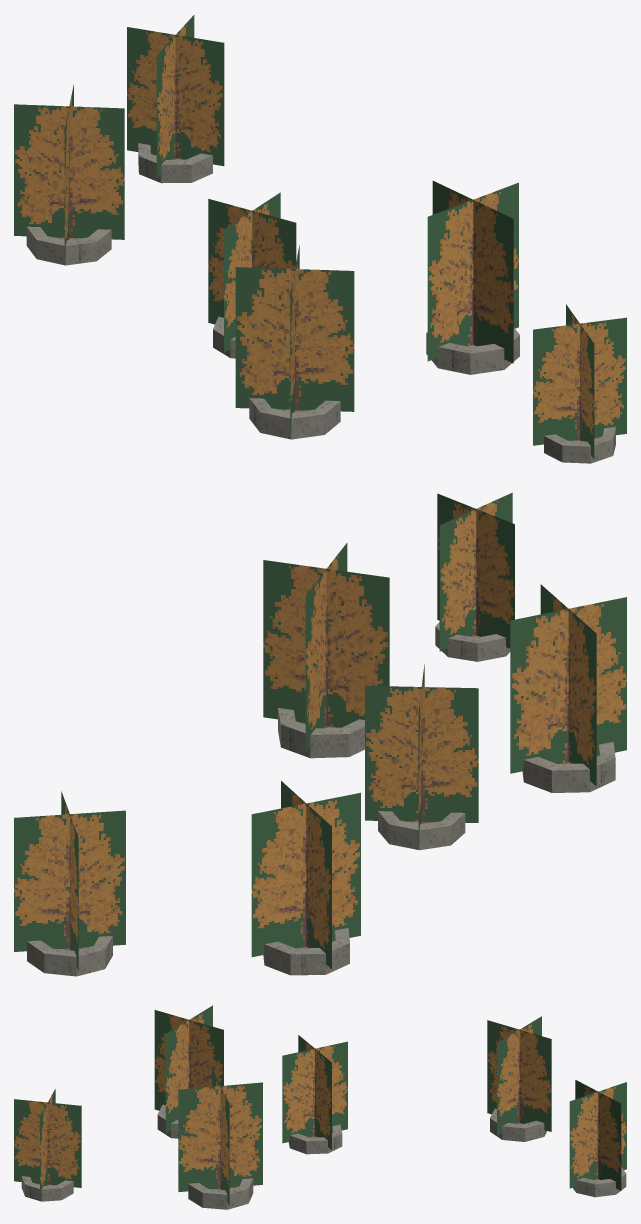
Rendered from procgen-procpain-tree-park-large-xm3zm2.obj.
The picture shows the model from 3 angles, top to bottom: view 1: azimuth 30°, elevation 25°; view 2: azimuth 150°, elevation 25°; view 3: azimuth 270°, elevation 25°; orthographic projection. The views are drawn at different scales.
Size of the model in its own units: 15.68 by 7.9 by 39.92.
